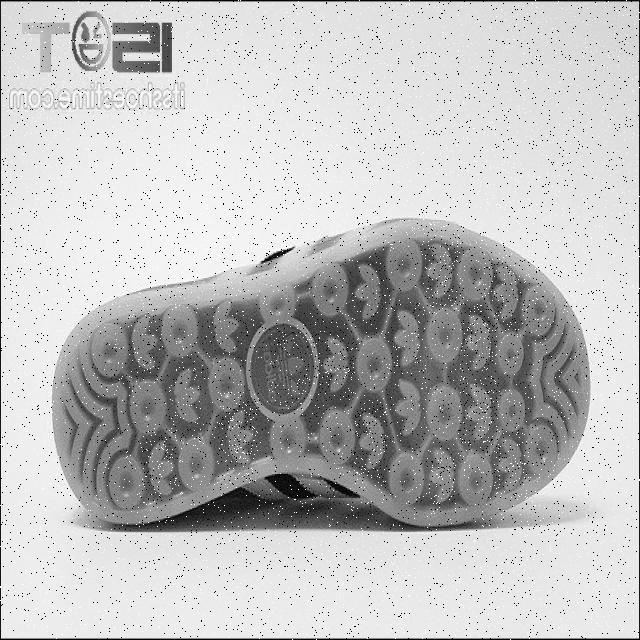Adidas: (483, 257, 539, 338), (270, 322, 318, 410), (423, 224, 464, 314), (218, 392, 258, 482), (347, 247, 390, 329), (387, 298, 427, 382), (459, 373, 499, 451), (169, 355, 203, 446), (211, 284, 247, 368), (392, 369, 428, 447), (318, 332, 358, 402), (354, 402, 388, 482), (463, 376, 499, 447), (494, 430, 530, 501), (128, 308, 162, 382), (461, 304, 497, 372), (142, 428, 176, 500), (428, 448, 456, 514)
